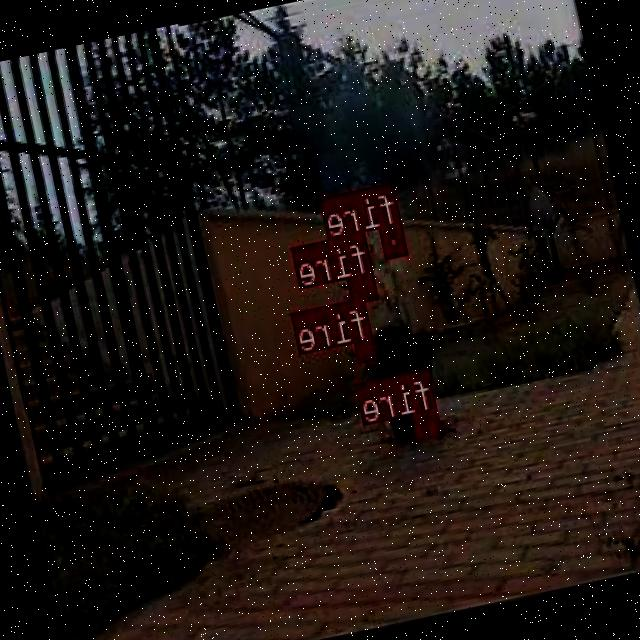fire: (411, 406, 444, 438), (350, 270, 380, 302), (382, 223, 408, 254), (357, 338, 377, 359)
